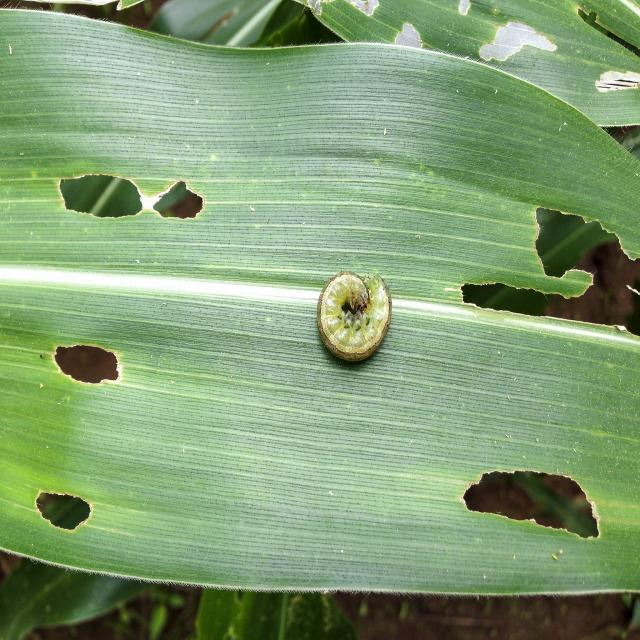Fall-armyworm: (314, 275, 397, 370)
